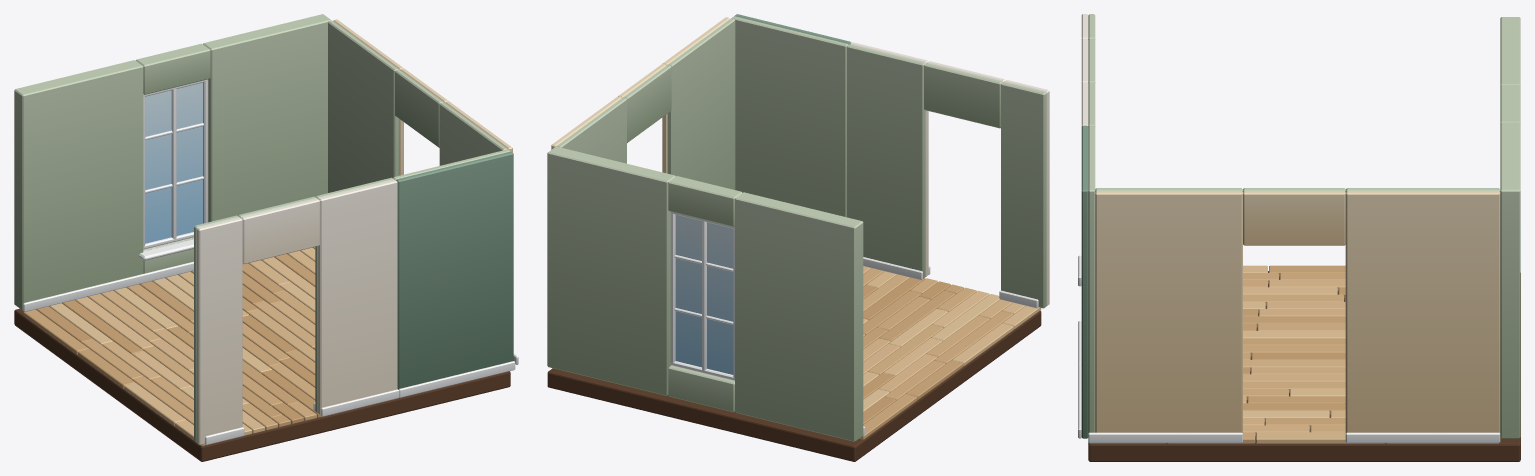
The model's file is house-bedroom.glb.
The picture shows the model from 3 angles, left to right: view 1: azimuth 30°, elevation 25°; view 2: azimuth 150°, elevation 25°; view 3: azimuth 270°, elevation 25°; orthographic projection. The views are drawn at different scales.
Visible parts, largest first — view 1: wall-bedroom-street, floor-bedroom, wall-bedroom-corridor, wall-bedroom-study, wall-bedroom-balcony, glass-bedroom-street, lintel-bedroom-corridor-0, lintel-bedroom-balcony-0; view 2: wall-bedroom-street, wall-bedroom-corridor, floor-bedroom, wall-bedroom-study, wall-bedroom-balcony, glass-bedroom-street, lintel-bedroom-corridor-0, lintel-bedroom-balcony-0; view 3: wall-bedroom-balcony, floor-bedroom, wall-bedroom-street, lintel-bedroom-balcony-0, wall-bedroom-study, wall-bedroom-corridor, lintel-bedroom-corridor-0.
Part boxes in pixels (x1,y1,x2,y2): wall-bedroom-street: (14, 14, 331, 311); floor-bedroom: (14, 247, 510, 461); wall-bedroom-corridor: (194, 177, 399, 444); wall-bedroom-study: (393, 149, 515, 397); wall-bedroom-balcony: (328, 19, 518, 364); glass-bedroom-street: (145, 82, 202, 243); lintel-bedroom-corridor-0: (238, 196, 319, 264); lintel-bedroom-balcony-0: (395, 68, 448, 147); wall-bedroom-street: (547, 146, 864, 441); wall-bedroom-corridor: (847, 42, 1049, 308); floor-bedroom: (547, 266, 1041, 461); wall-bedroom-study: (732, 14, 851, 217); wall-bedroom-balcony: (551, 17, 735, 189); glass-bedroom-street: (675, 215, 733, 374); lintel-bedroom-corridor-0: (924, 61, 1005, 128); lintel-bedroom-balcony-0: (618, 64, 671, 142); wall-bedroom-balcony: (1088, 188, 1500, 442); floor-bedroom: (1088, 265, 1520, 461); wall-bedroom-street: (1500, 17, 1520, 438); lintel-bedroom-balcony-0: (1243, 188, 1345, 245); wall-bedroom-study: (1078, 125, 1095, 438); wall-bedroom-corridor: (1078, 14, 1095, 364); lintel-bedroom-corridor-0: (1081, 38, 1095, 82).
Size of the model in its own units: 6.25 by 4.38 by 6.45.
1 material, 1 textured.
